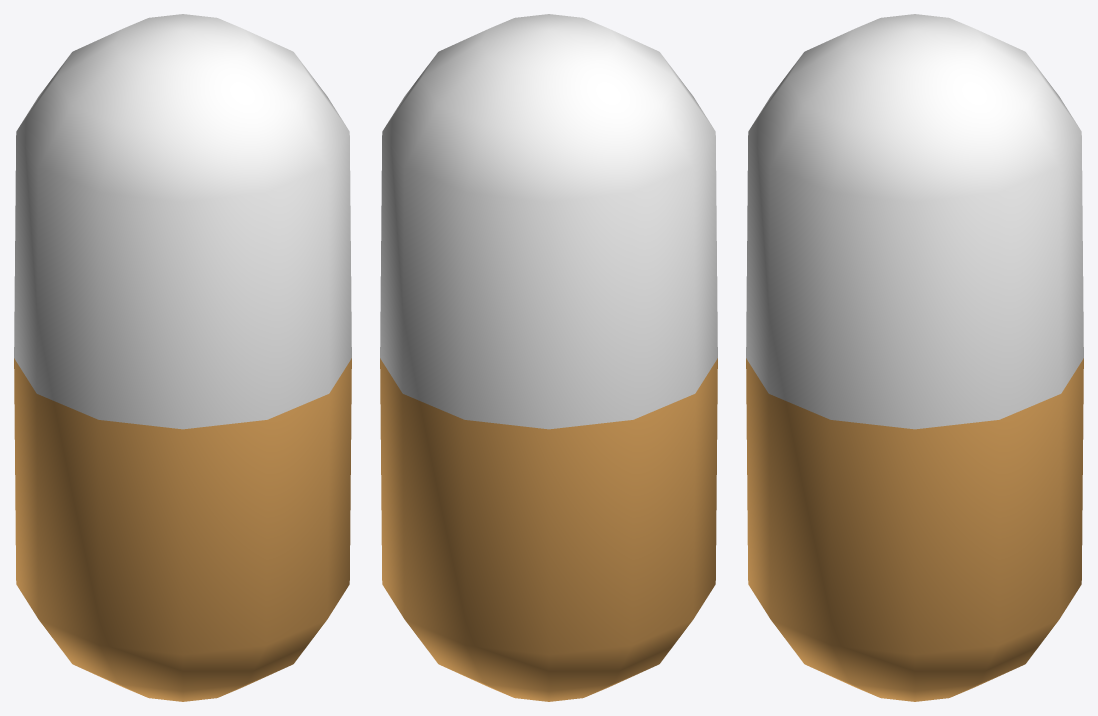
The model's file is jouzai3.fbx.
3 renders of one model, left to right at view 1: azimuth 30°, elevation 25°; view 2: azimuth 150°, elevation 25°; view 3: azimuth 270°, elevation 25°, orthographic.
Visible parts, largest first — view 1: jouzai3; view 2: jouzai3; view 3: jouzai3.
Part boxes in pixels (bbox=[...]): jouzai3: bbox=[14, 14, 351, 701]; jouzai3: bbox=[380, 14, 717, 701]; jouzai3: bbox=[746, 14, 1083, 701].
Bounding box in the file's own units: 1.87 × 4 × 1.87.
